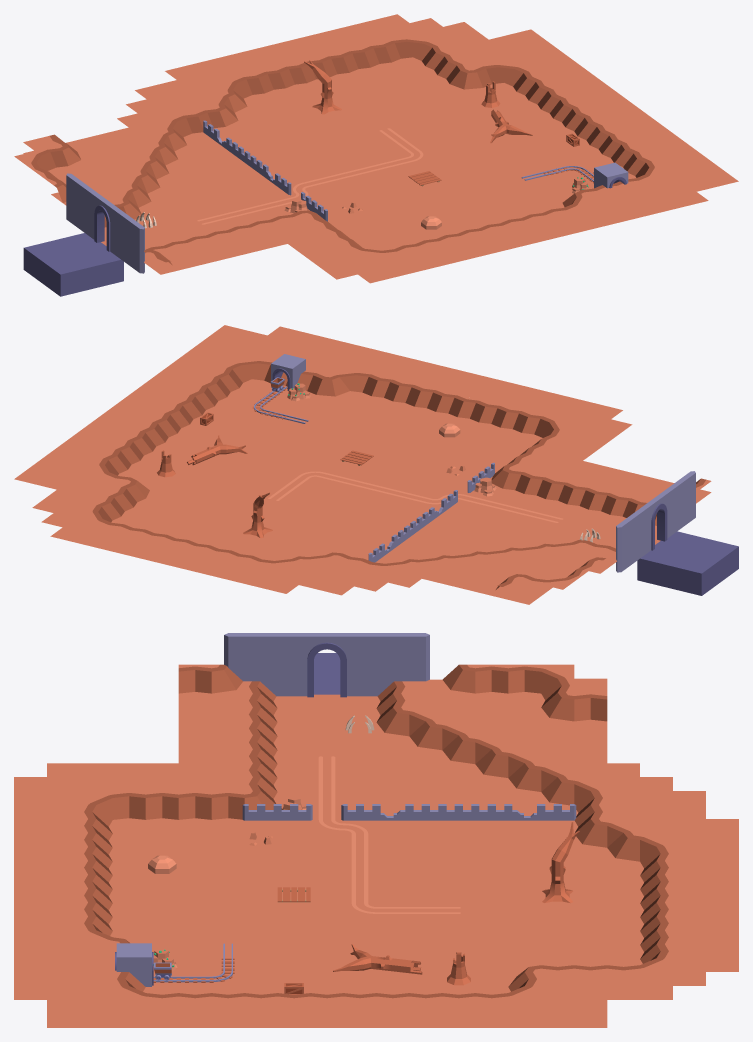
File: terrain.glb
3 views of the same model, one above another, from view 1: azimuth 30°, elevation 25°; view 2: azimuth 150°, elevation 25°; view 3: azimuth 270°, elevation 25° (orthographic). The views are drawn at different scales.
Parts seen in each view (by area): view 1: terrain_sideCliff (×10), floor (×5), wall (×2), doorway_round, terrain_sideCorner; view 2: terrain_sideCliff (×15), floor (×5), wall (×2), doorway_round, wall_gate, terrain_sideCorner; view 3: terrain_sideCorner (×11), terrain_sideCliff (×8), wall (×2), doorway_round, wall_gate.
Boxes of the visible parts, left/top/right/bottom form: terrain_sideCliff (×10): left=35, top=37, right=503, bottom=170; floor (×5): left=23, top=242, right=123, bottom=296; wall (×2): left=66, top=173, right=144, bottom=273; doorway_round: left=90, top=191, right=119, bottom=254; terrain_sideCorner: left=450, top=68, right=482, bottom=92; terrain_sideCliff (×15): left=350, top=371, right=643, bottom=518; floor (×5): left=637, top=541, right=738, bottom=595; wall (×2): left=616, top=471, right=695, bottom=572; doorway_round: left=641, top=490, right=670, bottom=553; wall_gate: left=271, top=358, right=299, bottom=390; terrain_sideCorner: left=316, top=374, right=349, bottom=399; terrain_sideCorner (×11): left=211, top=664, right=639, bottom=861; terrain_sideCliff (×8): left=113, top=664, right=607, bottom=819; wall (×2): left=224, top=633, right=429, bottom=696; doorway_round: left=290, top=633, right=363, bottom=697; wall_gate: left=133, top=943, right=153, bottom=986.
Bounding box in the file's own units: 28 × 3.12 × 22.
